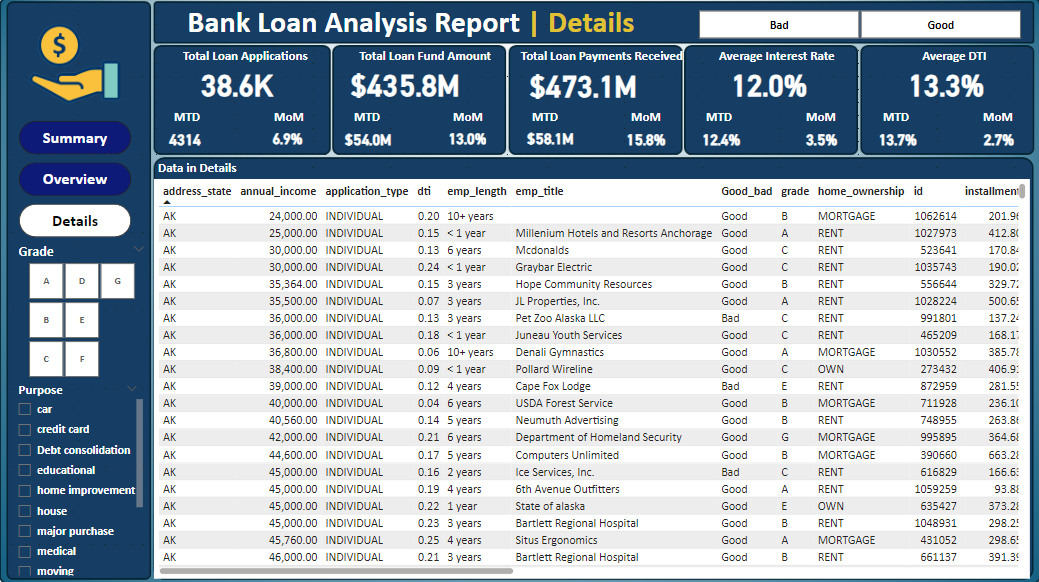

What the dashboard file says about the page in this screenshot:
{"tool":"powerbi","page":{"name":"Details","canvas":[1280,720],"ordinal":2},"visuals":[{"type":"card","fields":{"Values":["Measure Table.Total Loan Payment Amount Received"]},"box":[641.1,75.1,152.9,61.4],"z":0},{"type":"card","fields":{"Values":["Measure Table.Tota Loan Fund Amount"]},"box":[421.8,72.2,152.9,64.3],"z":1000},{"type":"card","fields":{"Values":["Measure Table.Total loan applications"]},"box":[228.8,73.8,125.3,62.7],"z":2000},{"type":"card","fields":{"Values":["Measure Table.Average Of DTI"]},"box":[1101.3,73.8,125.3,62.7],"z":3000},{"type":"card","fields":{"Values":["Measure Table.Average Interest Rate"]},"box":[883.8,73.8,125.3,62.7],"z":4000},{"type":"textbox","box":[629.4,56,223.6,30.9],"z":5000},{"type":"textbox","box":[430.3,56,185.3,29.3],"z":6000},{"type":"textbox","box":[209.3,56,185.3,29.3],"z":7000},{"type":"textbox","box":[1081.8,56,185.3,29.3],"z":8000},{"type":"textbox","box":[844.4,56,223.6,30.9],"z":9000},{"type":"textbox","box":[649.3,131.8,93.3,40],"z":10000},{"type":"textbox","box":[430.3,131.8,93.3,40],"z":11000},{"type":"textbox","box":[209.3,131.8,93.3,40],"z":12000},{"type":"textbox","box":[1081.8,131.8,93.3,40],"z":13000},{"type":"textbox","box":[864.4,131.8,93.3,40],"z":14000},{"type":"textbox","box":[772,131.8,62.7,40],"z":15000},{"type":"textbox","box":[553,131.8,62.7,40],"z":16000},{"type":"textbox","box":[332,131.8,62.7,40],"z":17000},{"type":"textbox","box":[1204.5,131.8,62.7,40],"z":18000},{"type":"textbox","box":[987.1,131.8,62.7,40],"z":19000},{"type":"textbox","box":[190,1.2,632.5,61.2],"z":20000},{"type":"card","fields":{"Values":["Measure Table.MTD Total Loan Payments Received"]},"box":[636.4,156.4,81.8,34.5],"z":21000},{"type":"card","fields":{"Values":["Measure Table.MTD Total Loan Fund Amount"]},"box":[410.8,157.2,83.8,33.8],"z":22000},{"type":"card","fields":{"Values":["Measure Table.MTD Total Loan Applications"]},"box":[200,157.3,56.4,33.6],"z":23000},{"type":"card","fields":{"Values":["Measure Table.MTD Average DTI"]},"box":[1068.2,157.3,72.7,33.6],"z":24000},{"type":"card","fields":{"Values":["Measure Table.MTD Average Interest Rate"]},"box":[852.7,157.3,69.1,33.6],"z":25000},{"type":"card","fields":{"Values":["Measure Table.MoM Total Loan Payment Received"]},"box":[755.5,157.3,78.2,33.6],"z":26000},{"type":"card","fields":{"Values":["Measure Table.MoM Total Loan Fund Amount"]},"box":[546.3,157.6,57.3,33.3],"z":27000},{"type":"card","fields":{"Values":["Measure Table.MoM Total Loan Applications"]},"box":[325.3,157.6,57.3,33.3],"z":28000},{"type":"card","fields":{"Values":["Measure Table.MoM Average DTI"]},"box":[1191.8,157.3,75.5,33.6],"z":29000},{"type":"card","fields":{"Values":["Measure Table.MoM Average Interest Rate"]},"box":[980,157.3,62.7,33.6],"z":30000},{"type":"slicer","fields":{"Values":["financial_loan.Good_bad"]},"box":[834,8,446,48],"z":31000},{"type":"slicer","fields":{"Values":["financial_loan.grade"]},"box":[10,295,180,178],"z":33000},{"type":"slicer","fields":{"Values":["financial_loan.purpose"]},"box":[10,467.5,171.2,247.5],"z":34000},{"type":"tableEx","fields":{"Values":["financial_loan.address_state","financial_loan.annual_income","financial_loan.application_type","financial_loan.dti","financial_loan.emp_length","financial_loan.emp_title","financial_loan.Good_bad","financial_loan.grade","financial_loan.home_ownership","financial_loan.id","financial_loan.installment","financial_loan.int_rate"]},"box":[189.5,222.8,1078.2,492.3],"z":41000},{"type":"image","box":[10,1.4,164.3,158.6],"z":42000},{"type":"pageNavigator","box":[23.8,151.2,138.8,143.8],"z":42001},{"type":"textbox","box":[189.4,194.6,174.1,38.4],"z":42002}]}

Visuals, with their boxes in screenshot pixels (x1, y1, x2, y2), scaled from the page's 1280x720 canvas onto the 1039x582 screenshot:
card - Measure Table.Total Loan Payment Amount Received: (left=520, top=61, right=645, bottom=110)
card - Measure Table.Tota Loan Fund Amount: (left=342, top=58, right=466, bottom=110)
card - Measure Table.Total loan applications: (left=186, top=60, right=287, bottom=110)
card - Measure Table.Average Of DTI: (left=894, top=60, right=996, bottom=110)
card - Measure Table.Average Interest Rate: (left=717, top=60, right=819, bottom=110)
textbox: (left=511, top=45, right=692, bottom=70)
textbox: (left=349, top=45, right=500, bottom=69)
textbox: (left=170, top=45, right=320, bottom=69)
textbox: (left=878, top=45, right=1029, bottom=69)
textbox: (left=685, top=45, right=867, bottom=70)
textbox: (left=527, top=107, right=603, bottom=139)
textbox: (left=349, top=107, right=425, bottom=139)
textbox: (left=170, top=107, right=246, bottom=139)
textbox: (left=878, top=107, right=954, bottom=139)
textbox: (left=702, top=107, right=777, bottom=139)
textbox: (left=627, top=107, right=678, bottom=139)
textbox: (left=449, top=107, right=500, bottom=139)
textbox: (left=269, top=107, right=320, bottom=139)
textbox: (left=978, top=107, right=1029, bottom=139)
textbox: (left=801, top=107, right=852, bottom=139)
textbox: (left=154, top=1, right=668, bottom=50)
card - Measure Table.MTD Total Loan Payments Received: (left=517, top=126, right=583, bottom=154)
card - Measure Table.MTD Total Loan Fund Amount: (left=333, top=127, right=401, bottom=154)
card - Measure Table.MTD Total Loan Applications: (left=162, top=127, right=208, bottom=154)
card - Measure Table.MTD Average DTI: (left=867, top=127, right=926, bottom=154)
card - Measure Table.MTD Average Interest Rate: (left=692, top=127, right=748, bottom=154)
card - Measure Table.MoM Total Loan Payment Received: (left=613, top=127, right=677, bottom=154)
card - Measure Table.MoM Total Loan Fund Amount: (left=443, top=127, right=490, bottom=154)
card - Measure Table.MoM Total Loan Applications: (left=264, top=127, right=311, bottom=154)
card - Measure Table.MoM Average DTI: (left=967, top=127, right=1029, bottom=154)
card - Measure Table.MoM Average Interest Rate: (left=795, top=127, right=846, bottom=154)
slicer - financial_loan.Good_bad: (left=677, top=6, right=1038, bottom=45)
slicer - financial_loan.grade: (left=8, top=238, right=154, bottom=382)
slicer - financial_loan.purpose: (left=8, top=378, right=147, bottom=578)
tableEx - financial_loan.address_state x financial_loan.annual_income: (left=154, top=180, right=1029, bottom=578)
image: (left=8, top=1, right=141, bottom=129)
pageNavigator: (left=19, top=122, right=132, bottom=238)
textbox: (left=154, top=157, right=295, bottom=188)
